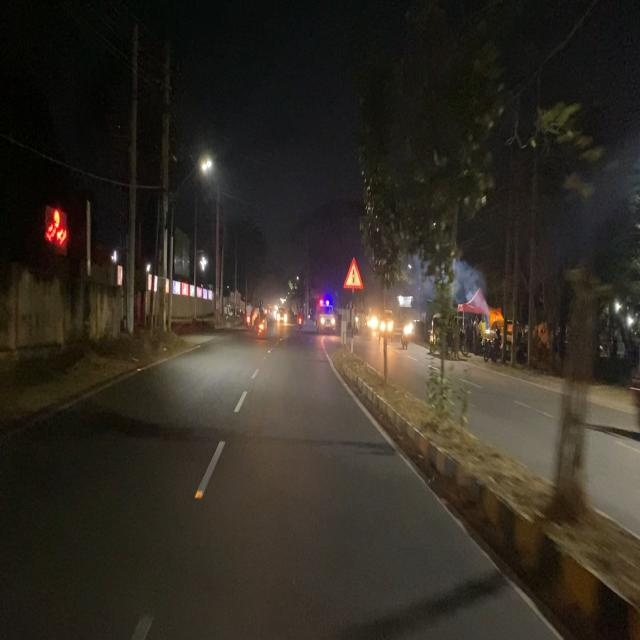bien_nguy_hiem: (343, 256, 364, 291)
